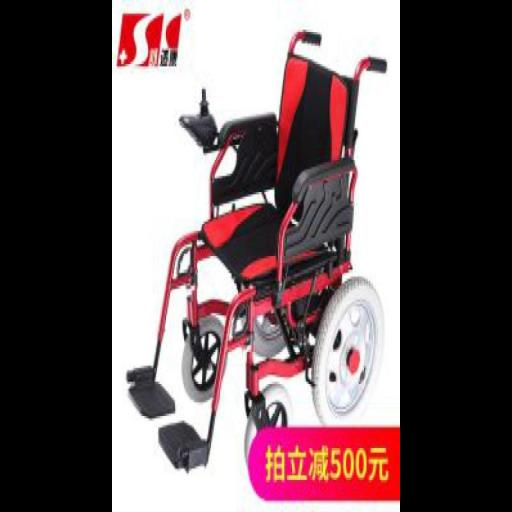cadeira_de_rodas: (131, 31, 383, 471)
